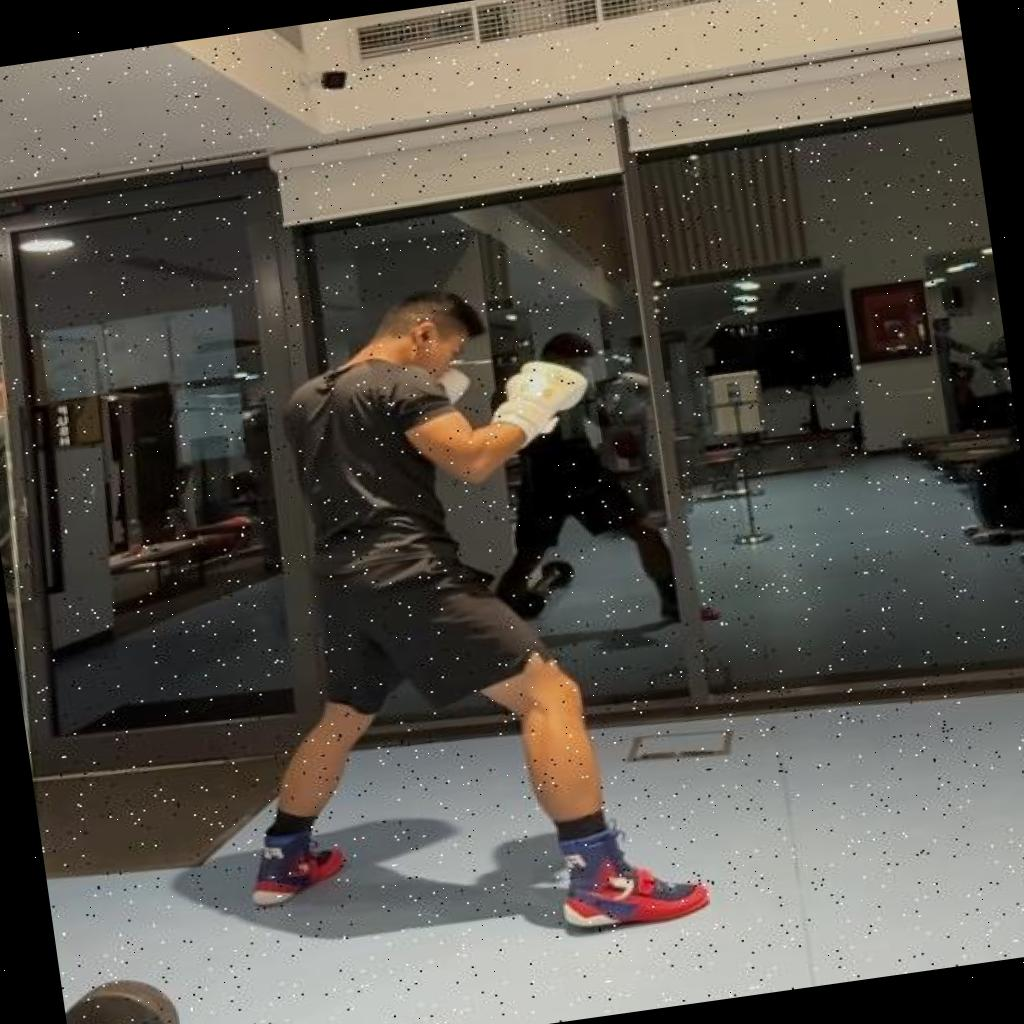no punch: (169, 260, 724, 984)
